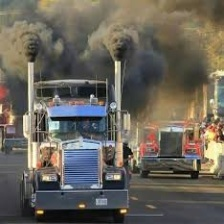smoke: (2, 1, 222, 63)
